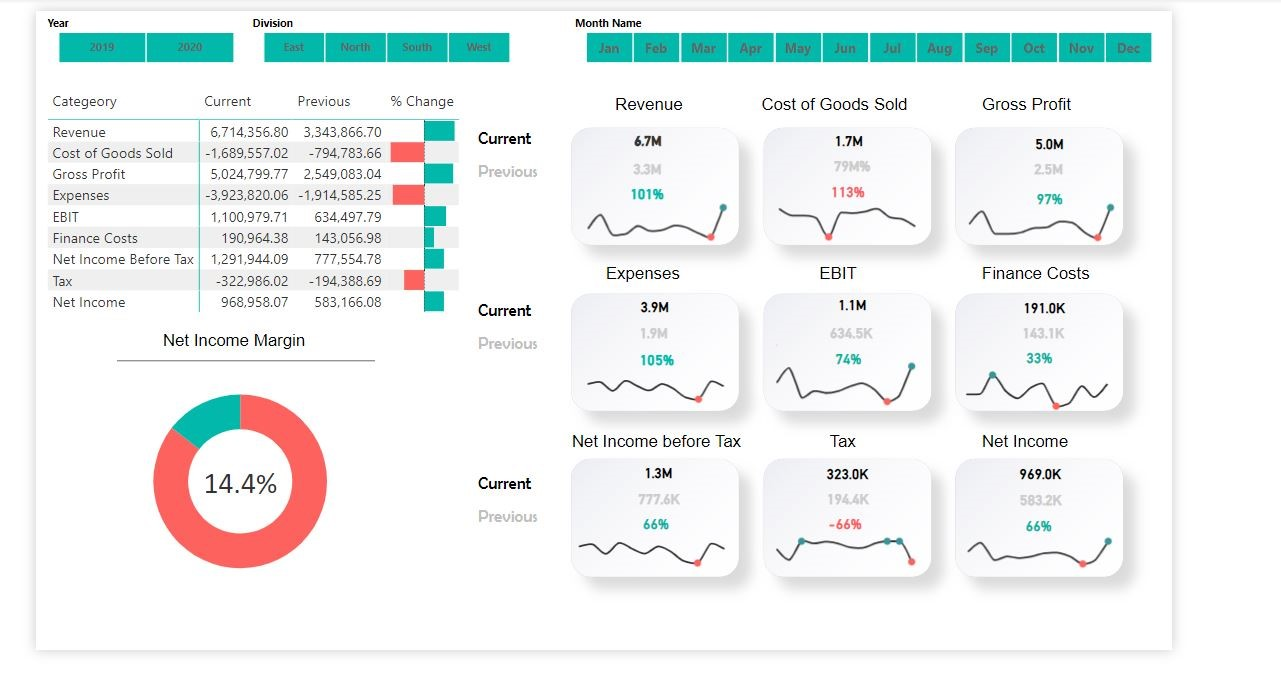

This screenshot's page, from the dashboard's own definition file:
{"tool":"powerbi","page":{"name":"IS","canvas":[1280,720],"ordinal":0},"visuals":[{"type":"pivotTable","fields":{"Rows":["Layout.Categeory"],"Values":["M Measures.Current","M Measures.Previous","M Measures.% Change"]},"box":[8.3,83.3,474.8,277.3],"z":0},{"type":"card","fields":{"Values":["KPI.Revenue Current"]},"box":[662.9,130.9,52.4,33.3],"z":1000},{"type":"card","fields":{"Values":["KPI.Revenue Previous"]},"box":[661.1,164.3,58.3,29.8],"z":1000,"group":"g3"},{"type":"card","fields":{"Values":["KPI.Gross Profit Previous"]},"box":[1111.5,165.4,59.5,26.2],"z":2000},{"type":"card","fields":{"Values":["KPI.Cost of Goods Sold Previous"]},"box":[889.4,162.6,61.9,28.6],"z":3000,"group":"g1"},{"type":"card","fields":{"Values":["KPI.Revenue % Change"]},"box":[662,191.4,53.6,30.9],"z":3000,"group":"g3"},{"type":"card","fields":{"Values":["KPI.Expenses Previous"]},"box":[663.4,348.9,65.5,28.6],"z":3000,"group":"g2"},{"type":"card","fields":{"Values":["KPI.Expenses Previous"]},"box":[829.5,359.1,10.6,28.4],"z":3000,"group":"g4"},{"type":"donutChart","fields":{"Y":["M Measures.Inv Net Margin","M Measures.Net Income Margin"]},"box":[58.3,403.4,345.1,254.7],"z":3000},{"type":"PBI_CV_25997FEB_F466_44FA_B562_AC4063283C4C","fields":{"axis":["Calender.Month Name"],"measure":["M Measures.Revenue"]},"box":[604.1,204.5,191.9,61.4],"z":4000,"group":"g3"},{"type":"card","fields":{"Values":["KPI.EBIT Previous"]},"box":[885.4,348.7,65.5,28.6],"z":4000},{"type":"card","fields":{"Values":["KPI.Cost of Goods Sold % Change"]},"box":[886.1,187.5,58.2,34.6],"z":5000,"group":"g1"},{"type":"card","fields":{"Values":["KPI.Finance Costs Previous"]},"box":[1101.7,349.9,67.4,29.8],"z":5000},{"type":"card","fields":{"Values":["KPI.Expenses % Change"]},"box":[670.6,378.2,58.7,30.7],"z":5000,"group":"g2"},{"type":"card","fields":{"Values":["KPI.Expenses % Change"]},"box":[830.7,388.2,9.5,30.5],"z":5000,"group":"g4"},{"type":"card","fields":{"Values":["KPI.Tax Previous"]},"box":[881.3,536.6,66.1,27.2],"z":6000},{"type":"card","fields":{"Values":["KPI.Cost of Goods Sold Current"]},"box":[881.1,127.3,71.4,41.7],"z":7000,"group":"g1"},{"type":"card","fields":{"Values":["KPI.Expenses Current"]},"box":[668.2,318.1,59.5,32.1],"z":7000,"group":"g2"},{"type":"card","fields":{"Values":["KPI.Expenses Current"]},"box":[830.3,328.5,9.6,31.9],"z":7000,"group":"g4"},{"type":"card","fields":{"Values":["KPI.Net Income Before Tax Previous"]},"box":[670,536.7,63.1,28.6],"z":7000},{"type":"card","fields":{"Values":["KPI.Revenue Current"]},"box":[662.8,130.9,52.4,33.3],"z":8000,"group":"g3"},{"type":"card","fields":{"Values":["KPI.Net Income Previous"]},"box":[1098.4,537.9,66.6,27.4],"z":8000},{"type":"PBI_CV_25997FEB_F466_44FA_B562_AC4063283C4C","fields":{"axis":["Calender.Month Name"],"measure":["M Measures.Cost of Goods Sold"]},"box":[820,192.2,191.9,73.9],"z":9000,"group":"g1"},{"type":"card","fields":{"Values":["KPI.Gross Profit % Change"]},"box":[1111.5,197.6,61.9,32.1],"z":9000},{"type":"PBI_CV_25997FEB_F466_44FA_B562_AC4063283C4C","fields":{"axis":["Calender.Month Name"],"measure":["M Measures.Expenses"]},"box":[604.6,370.8,191.6,77.9],"z":9000,"group":"g2"},{"type":"card","fields":{"Values":["M Measures.Net Income Margin"]},"box":[176.1,498.6,108.3,63.1],"z":10000},{"type":"card","fields":{"Values":["KPI.EBIT% Change"]},"box":[886.4,378,59,30.8],"z":11000},{"type":"card","fields":{"Values":["KPI.Finance Costs % Change"]},"box":[1102,374.9,58.3,34.5],"z":12000},{"type":"card","fields":{"Values":["KPI.Tax % Change"]},"box":[880.7,565.3,63.1,27.4],"z":13000},{"type":"card","fields":{"Values":["KPI.Net Income Before Tax % Change"]},"box":[670,565.3,55.9,29.8],"z":14000},{"type":"card","fields":{"Values":["KPI.Net Income % Change"]},"box":[1099.6,566.5,59.5,29.8],"z":15000},{"type":"slicer","fields":{"Values":["Calender.Year"]},"box":[0,0,246.3,64.3],"z":16000},{"type":"card","fields":{"Values":["KPI.Gross Profit Current"]},"box":[1112.7,133.3,58.3,34.5],"z":17000},{"type":"card","fields":{"Values":["KPI.EBIT Current"]},"box":[890.2,316.6,59.5,32.1],"z":18000},{"type":"card","fields":{"Values":["KPI.Finance Costs Current"]},"box":[1106.8,317.8,58.3,34.5],"z":19000},{"type":"card","fields":{"Values":["KPI.Tax Current"]},"box":[884,507,59.9,31.1],"z":20000},{"type":"card","fields":{"Values":["KPI.Net Income Before Tax Current"]},"box":[670,507,61.9,29.8],"z":21000},{"type":"card","fields":{"Values":["KPI.Net Income Current"]},"box":[1101.4,507,60.7,31.1],"z":22000},{"type":"group","id":"g1","title":"Group 1","box":[820,127.3,191.6,138],"z":23000},{"type":"PBI_CV_25997FEB_F466_44FA_B562_AC4063283C4C","fields":{"axis":["Calender.Month Name"],"measure":["M Measures.Gross Profit"]},"box":[1034.2,204.7,198.7,61.9],"z":24000},{"type":"PBI_CV_25997FEB_F466_44FA_B562_AC4063283C4C","fields":{"axis":["Calender.Month Name"],"measure":["M Measures.EBIT"]},"box":[816.4,383.2,191.6,67.8],"z":25000},{"type":"PBI_CV_25997FEB_F466_44FA_B562_AC4063283C4C","fields":{"axis":["Calender.Month Name"],"measure":["M Measures.Finance Costs"]},"box":[1030.6,392.7,197.6,63.1],"z":26000},{"type":"PBI_CV_25997FEB_F466_44FA_B562_AC4063283C4C","fields":{"axis":["Calender.Month Name"],"measure":["M Measures.Tax"]},"box":[816.4,580.8,191.6,51.2],"z":27000},{"type":"PBI_CV_25997FEB_F466_44FA_B562_AC4063283C4C","fields":{"axis":["Calender.Month Name"],"measure":["M Measures.Expenses"]},"box":[604.6,552.2,191.6,80.9],"z":28000},{"type":"PBI_CV_25997FEB_F466_44FA_B562_AC4063283C4C","fields":{"axis":["Calender.Month Name"],"measure":["M Measures.Net Income"]},"box":[1033,580.8,197.6,53.6],"z":29000},{"type":"group","id":"g2","title":"Group 2","box":[604.6,318.1,191.6,130.5],"z":30000},{"type":"group","id":"g3","title":"Group 3","box":[604.1,130.9,191.9,135],"z":31000},{"type":"group","id":"g4","title":"Group 2","box":[829.5,328.5,10.6,90.3],"z":32000},{"type":"slicer","fields":{"Values":["Division.Division"]},"box":[230.9,0,326.1,64.3],"z":33000},{"type":"slicer","fields":{"Values":["Calender.Month Name"]},"box":[593.9,0,686.7,64.3],"z":34000}]}

Visuals, with their boxes on the page's 1280x720 design canvas (x1, y1, x2, y2). These are canvas units, not pixel positions in the 1281x689 screenshot, which may show the page scaled, cropped or inside an application window:
pivotTable - Layout.Categeory x M Measures.Current: l=8, t=83, r=483, b=361
card - KPI.Revenue Current: l=663, t=131, r=715, b=164
card - KPI.Revenue Previous: l=661, t=164, r=719, b=194
card - KPI.Gross Profit Previous: l=1112, t=165, r=1171, b=192
card - KPI.Cost of Goods Sold Previous: l=889, t=163, r=951, b=191
card - KPI.Revenue % Change: l=662, t=191, r=716, b=222
card - KPI.Expenses Previous: l=663, t=349, r=729, b=378
card - KPI.Expenses Previous: l=830, t=359, r=840, b=388
donutChart - M Measures.Inv Net Margin x M Measures.Net Income Margin: l=58, t=403, r=403, b=658
PBI_CV_25997FEB_F466_44FA_B562_AC4063283C4C - Calender.Month Name x M Measures.Revenue: l=604, t=204, r=796, b=266
card - KPI.EBIT Previous: l=885, t=349, r=951, b=377
card - KPI.Cost of Goods Sold % Change: l=886, t=188, r=944, b=222
card - KPI.Finance Costs Previous: l=1102, t=350, r=1169, b=380
card - KPI.Expenses % Change: l=671, t=378, r=729, b=409
card - KPI.Expenses % Change: l=831, t=388, r=840, b=419
card - KPI.Tax Previous: l=881, t=537, r=947, b=564
card - KPI.Cost of Goods Sold Current: l=881, t=127, r=952, b=169
card - KPI.Expenses Current: l=668, t=318, r=728, b=350
card - KPI.Expenses Current: l=830, t=328, r=840, b=360
card - KPI.Net Income Before Tax Previous: l=670, t=537, r=733, b=565
card - KPI.Revenue Current: l=663, t=131, r=715, b=164
card - KPI.Net Income Previous: l=1098, t=538, r=1165, b=565
PBI_CV_25997FEB_F466_44FA_B562_AC4063283C4C - Calender.Month Name x M Measures.Cost of Goods Sold: l=820, t=192, r=1012, b=266
card - KPI.Gross Profit % Change: l=1112, t=198, r=1173, b=230
PBI_CV_25997FEB_F466_44FA_B562_AC4063283C4C - Calender.Month Name x M Measures.Expenses: l=605, t=371, r=796, b=449
card - M Measures.Net Income Margin: l=176, t=499, r=284, b=562
card - KPI.EBIT% Change: l=886, t=378, r=945, b=409
card - KPI.Finance Costs % Change: l=1102, t=375, r=1160, b=409
card - KPI.Tax % Change: l=881, t=565, r=944, b=593
card - KPI.Net Income Before Tax % Change: l=670, t=565, r=726, b=595
card - KPI.Net Income % Change: l=1100, t=566, r=1159, b=596
slicer - Calender.Year: l=0, t=0, r=246, b=64
card - KPI.Gross Profit Current: l=1113, t=133, r=1171, b=168
card - KPI.EBIT Current: l=890, t=317, r=950, b=349
card - KPI.Finance Costs Current: l=1107, t=318, r=1165, b=352
card - KPI.Tax Current: l=884, t=507, r=944, b=538
card - KPI.Net Income Before Tax Current: l=670, t=507, r=732, b=537
card - KPI.Net Income Current: l=1101, t=507, r=1162, b=538
"Group 1" group: l=820, t=127, r=1012, b=265
PBI_CV_25997FEB_F466_44FA_B562_AC4063283C4C - Calender.Month Name x M Measures.Gross Profit: l=1034, t=205, r=1233, b=267
PBI_CV_25997FEB_F466_44FA_B562_AC4063283C4C - Calender.Month Name x M Measures.EBIT: l=816, t=383, r=1008, b=451
PBI_CV_25997FEB_F466_44FA_B562_AC4063283C4C - Calender.Month Name x M Measures.Finance Costs: l=1031, t=393, r=1228, b=456
PBI_CV_25997FEB_F466_44FA_B562_AC4063283C4C - Calender.Month Name x M Measures.Tax: l=816, t=581, r=1008, b=632
PBI_CV_25997FEB_F466_44FA_B562_AC4063283C4C - Calender.Month Name x M Measures.Expenses: l=605, t=552, r=796, b=633
PBI_CV_25997FEB_F466_44FA_B562_AC4063283C4C - Calender.Month Name x M Measures.Net Income: l=1033, t=581, r=1231, b=634
"Group 2" group: l=605, t=318, r=796, b=449
"Group 3" group: l=604, t=131, r=796, b=266
"Group 2" group: l=830, t=328, r=840, b=419
slicer - Division.Division: l=231, t=0, r=557, b=64
slicer - Calender.Month Name: l=594, t=0, r=1281, b=64
